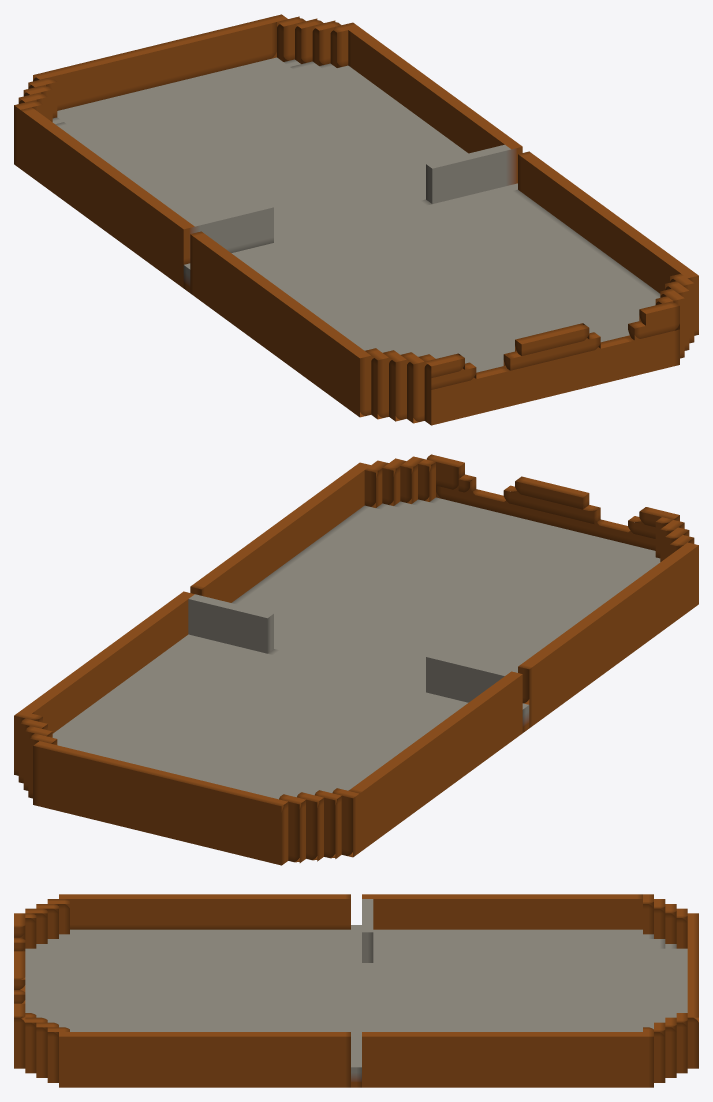
File: PIZZA_BOX_EASTER_EGG.dae
3 views of the same model, one above another, from view 1: azimuth 30°, elevation 25°; view 2: azimuth 150°, elevation 25°; view 3: azimuth 270°, elevation 25° (orthographic). The views are drawn at different scales.
Visible parts, largest first — view 1: Content; view 2: Content; view 3: Content.
Part boxes in pixels (box(x1,y1,x2,y2)): Content: box(14, 14, 698, 425); Content: box(14, 454, 698, 865); Content: box(14, 894, 698, 1087).
Bounding box in the file's own units: 30 × 5 × 61.
Materials: 1 (1 with a texture image).
